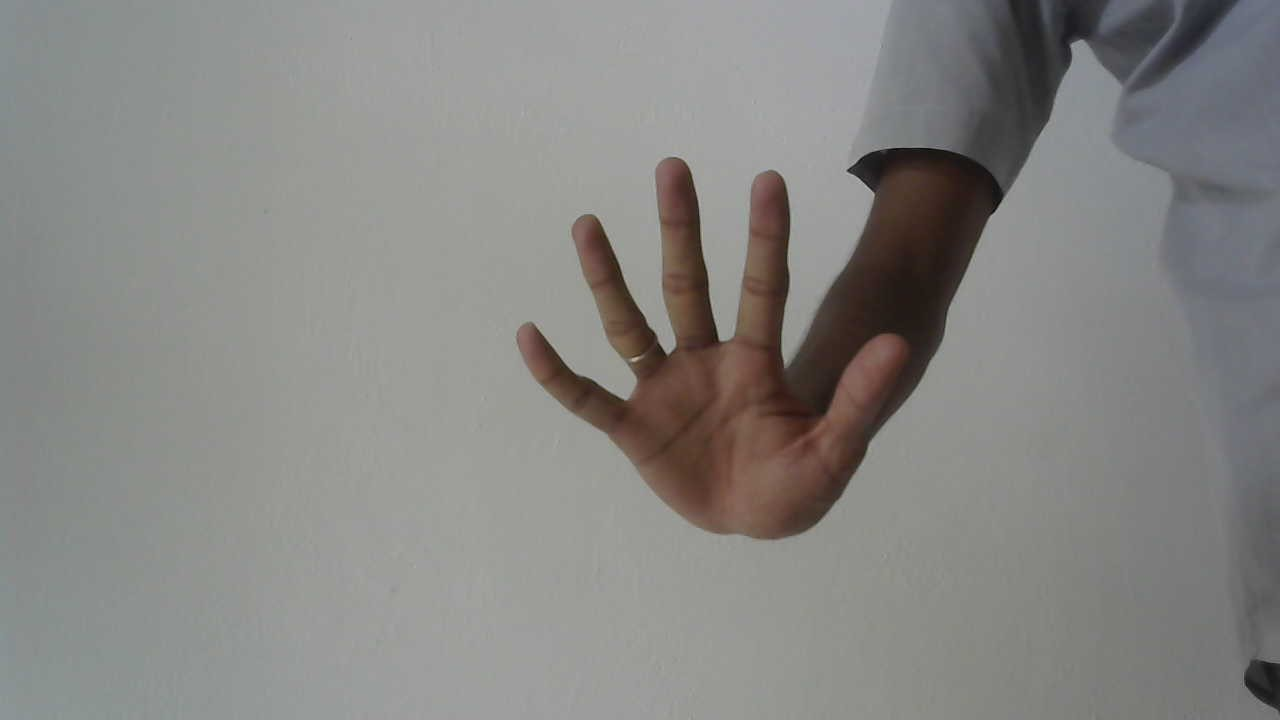hello: (502, 150, 925, 555)
